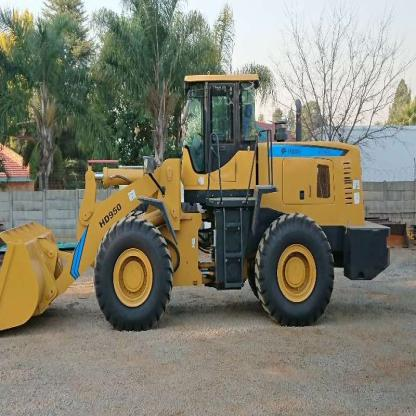bull_dozer/loader/grader: (3, 62, 391, 370)
